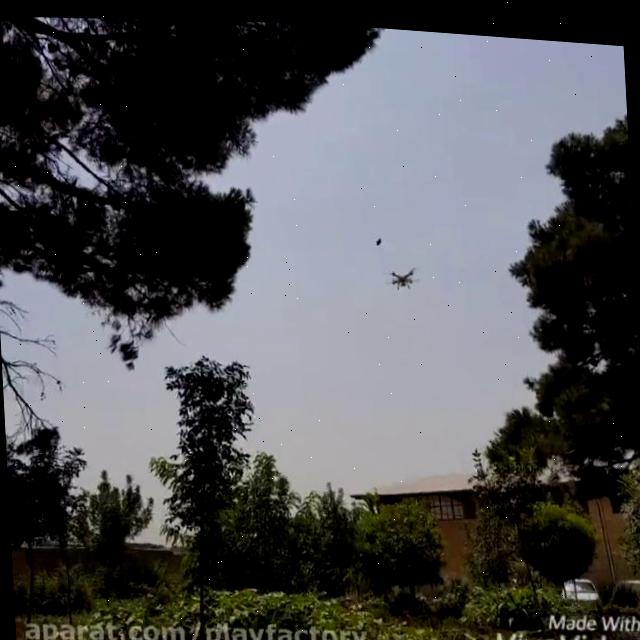drone: (382, 250, 423, 292)
